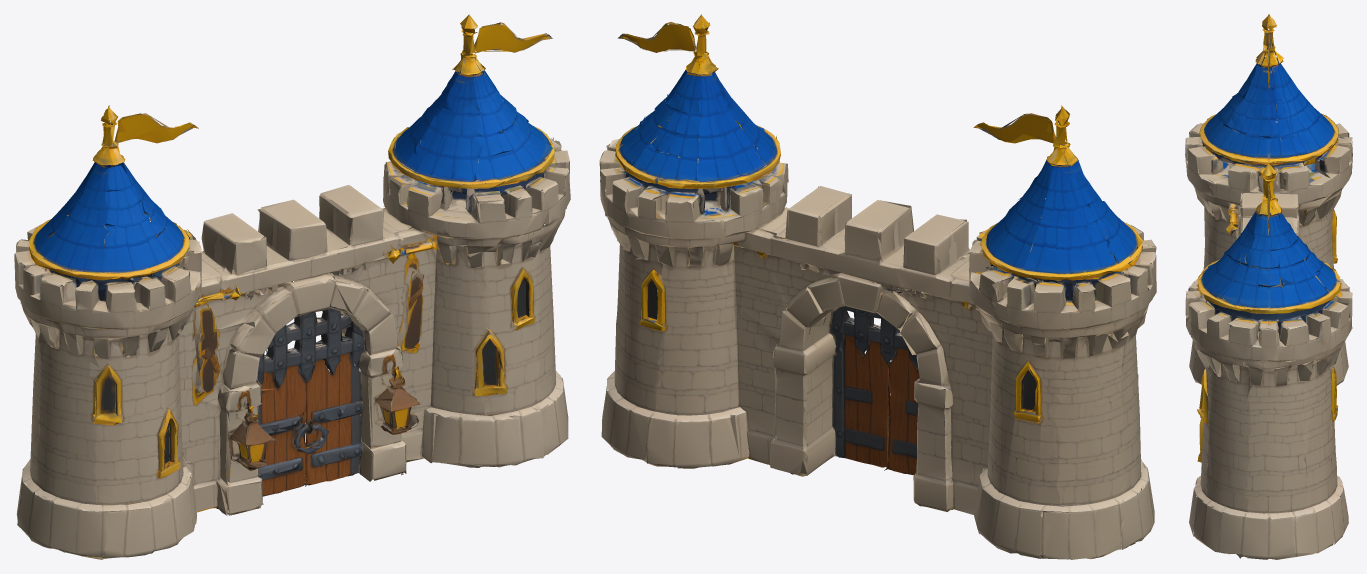
File: castle.glb
The picture shows the model from 3 angles, left to right: view 1: azimuth 30°, elevation 25°; view 2: azimuth 150°, elevation 25°; view 3: azimuth 270°, elevation 25°; orthographic projection. The views are drawn at different scales.
Visible parts, largest first — view 1: Body; view 2: Body; view 3: Body.
Boxes of the visible parts, x1,y1,x2,y2 form: Body: [14, 14, 570, 559]; Body: [599, 14, 1156, 559]; Body: [1185, 14, 1352, 559].
Bounding box in the file's own units: 10.57 × 7.99 × 3.33.
Materials: 1 (1 with a texture image).
